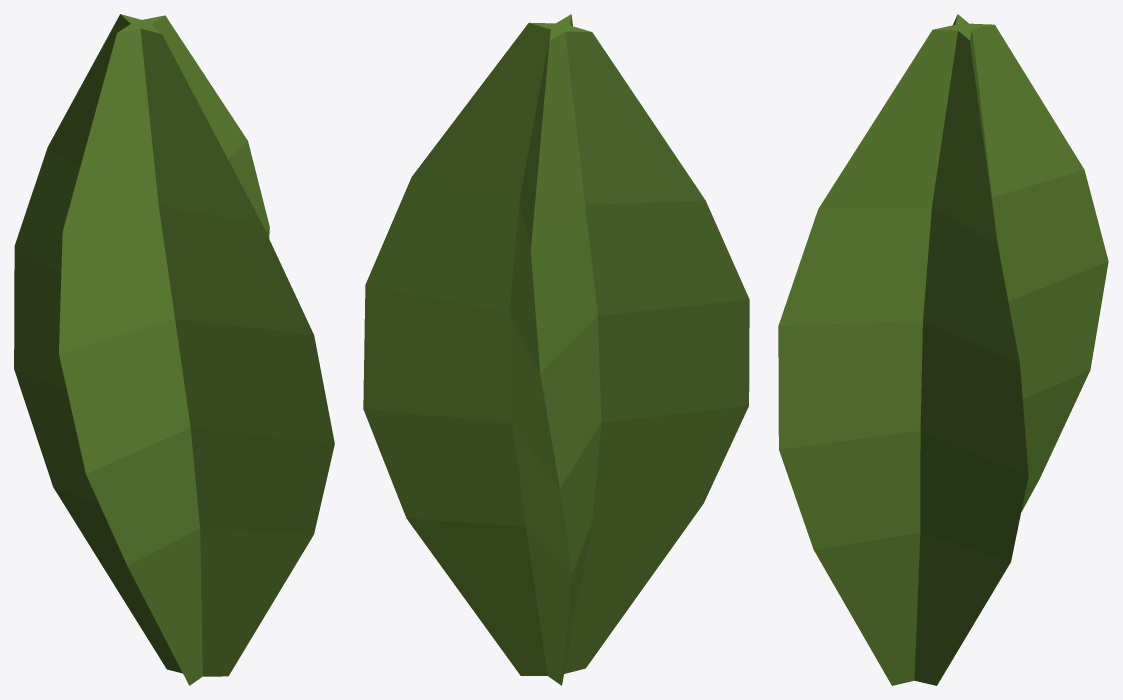
Rendered from Cactus_11.fbx.
3 renders of one model, left to right at view 1: azimuth 30°, elevation 25°; view 2: azimuth 150°, elevation 25°; view 3: azimuth 270°, elevation 25°, orthographic. The views are drawn at different scales.
Visible parts, largest first — view 1: Cactus_11; view 2: Cactus_11; view 3: Cactus_11.
Part boxes in pixels (left/top/right/bottom): Cactus_11: left=14, top=14, right=334, bottom=685; Cactus_11: left=363, top=14, right=749, bottom=685; Cactus_11: left=778, top=14, right=1108, bottom=685.
Size of the model in its own units: 15.93 by 15.93 by 33.74.
